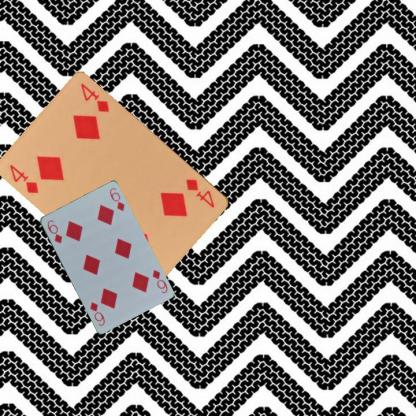4d: (183, 176, 217, 209), (8, 162, 40, 194)
6d: (44, 218, 64, 245), (150, 267, 168, 295)
